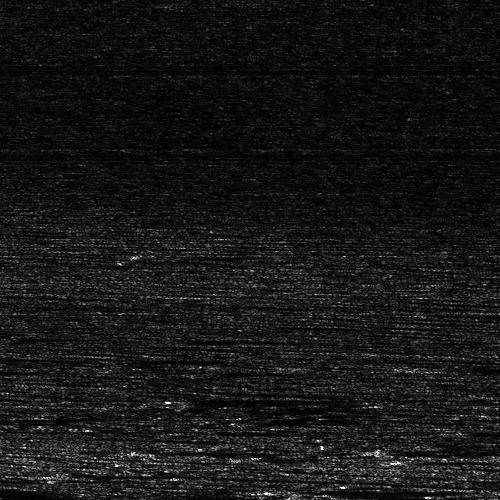rock: (7, 464, 90, 485), (391, 359, 474, 372), (348, 446, 431, 455)
shadow: (49, 464, 165, 485), (390, 446, 500, 455), (433, 359, 500, 372)
